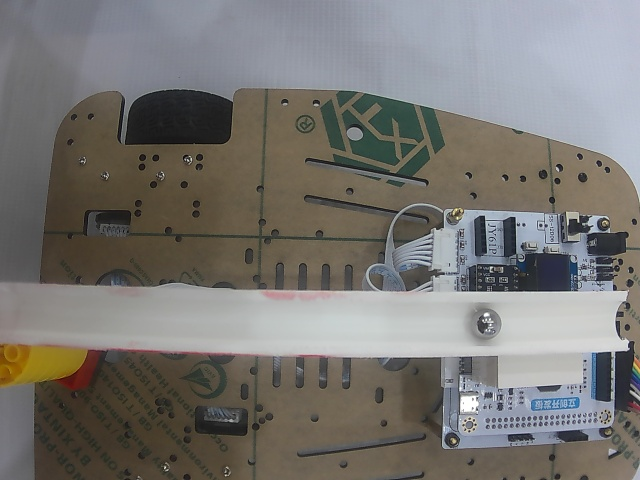steelball: (470, 308, 501, 338)
